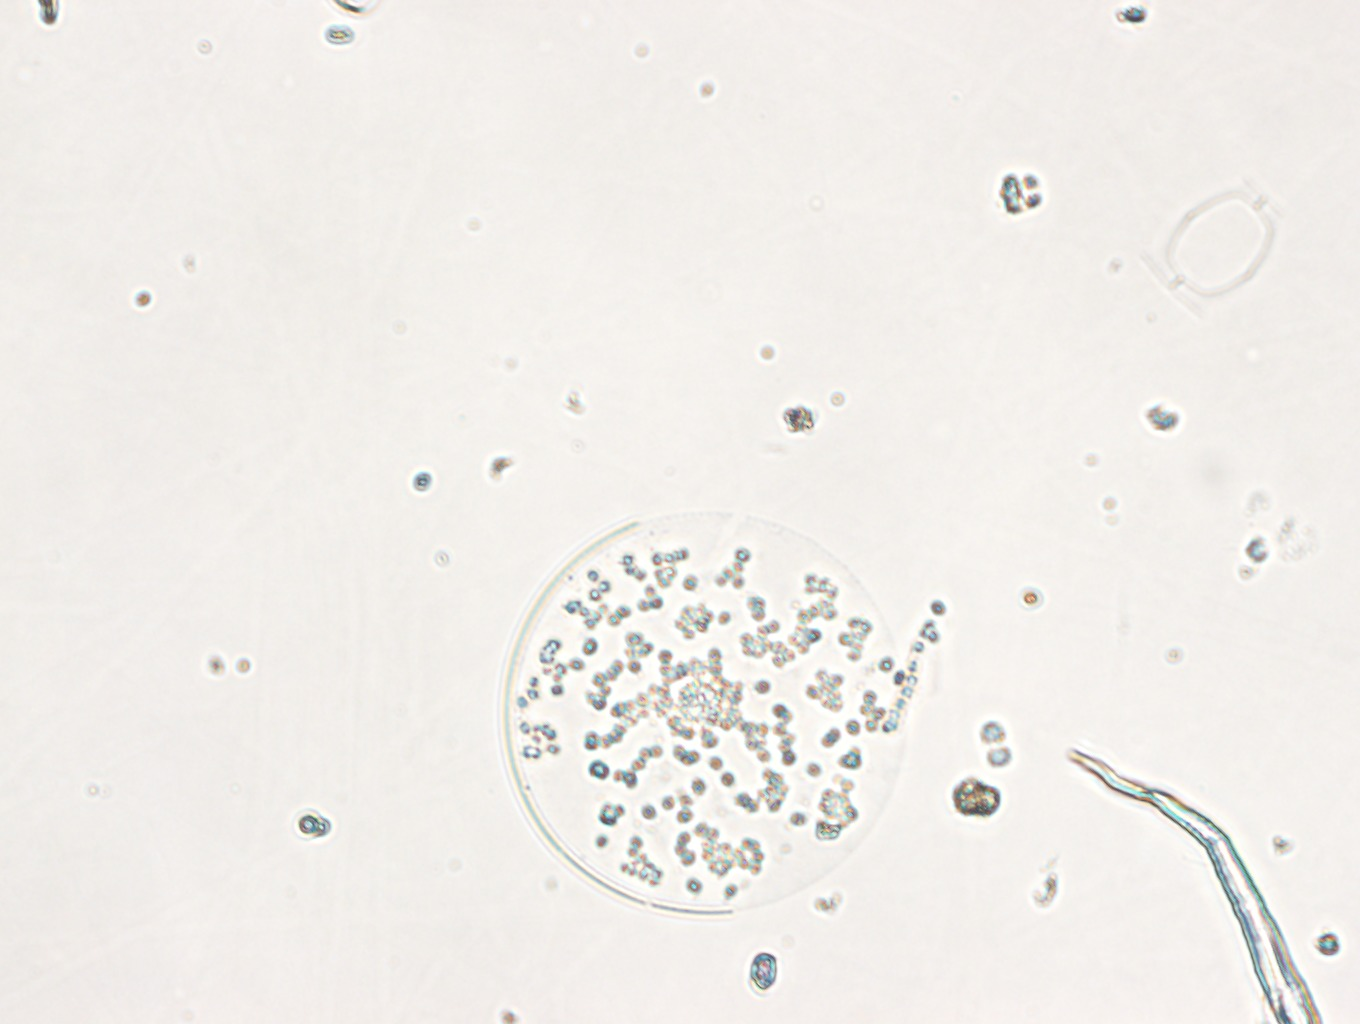coscinodiscus: (506, 512, 910, 922)
